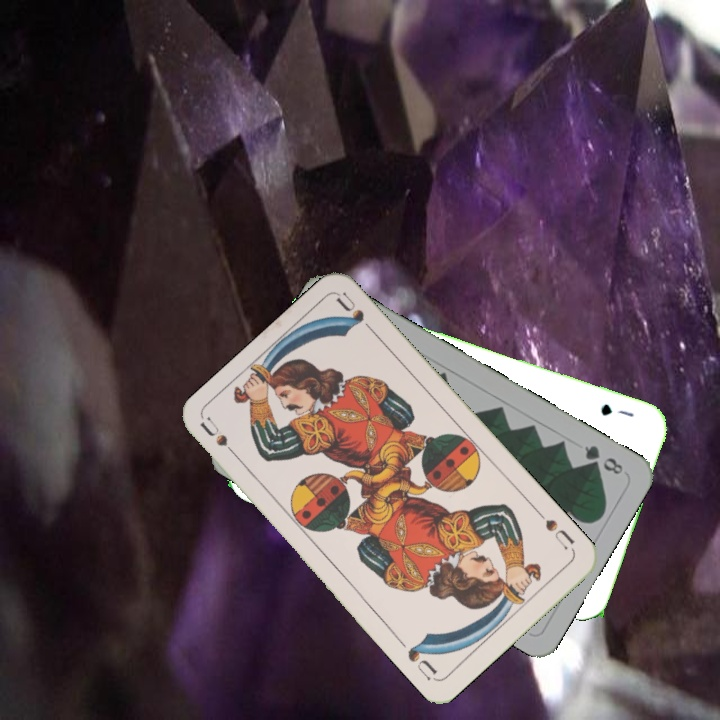G8: (580, 441, 626, 477)
GU: (596, 399, 636, 420)
SU: (197, 413, 245, 465), (533, 507, 577, 553)
